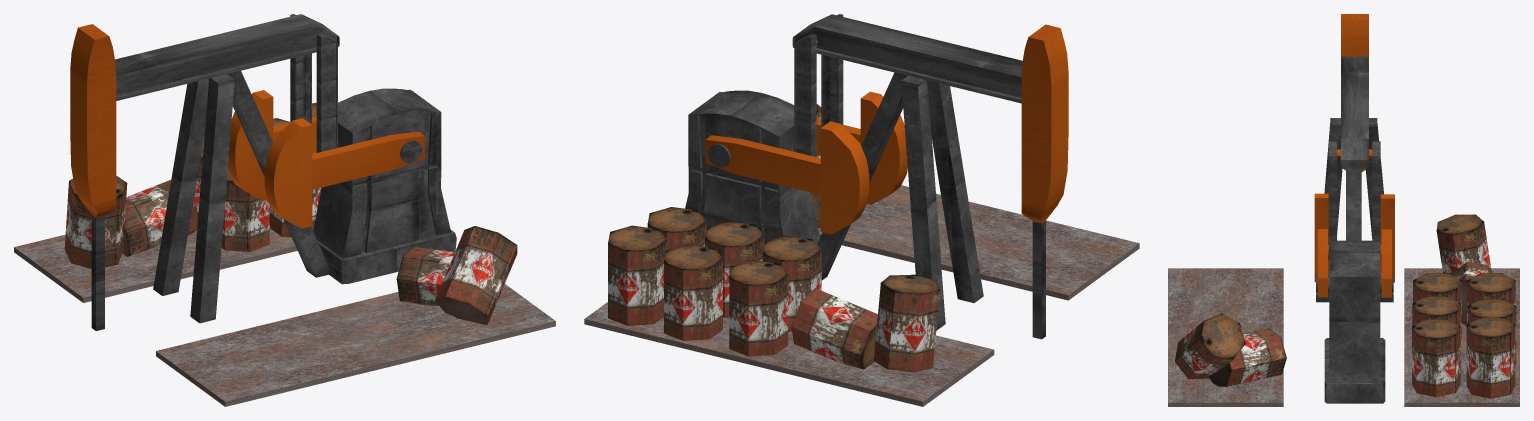
File: OilRig 1.fbx
3 renders of one model, left to right at view 1: azimuth 30°, elevation 25°; view 2: azimuth 150°, elevation 25°; view 3: azimuth 270°, elevation 25°, orthographic. The views are drawn at different scales.
Parts seen in each view (by area): view 1: polySurface115; view 2: polySurface115; view 3: polySurface115.
Boxes of the visible parts, x1=… form: polySurface115: x1=14, y1=14, x2=555, y2=406; polySurface115: x1=584, y1=14, x2=1139, y2=406; polySurface115: x1=1168, y1=14, x2=1519, y2=406.
Size of the model in its own units: 22.57 by 17.86 by 22.61.
Materials: 4 (4 with a texture image).
